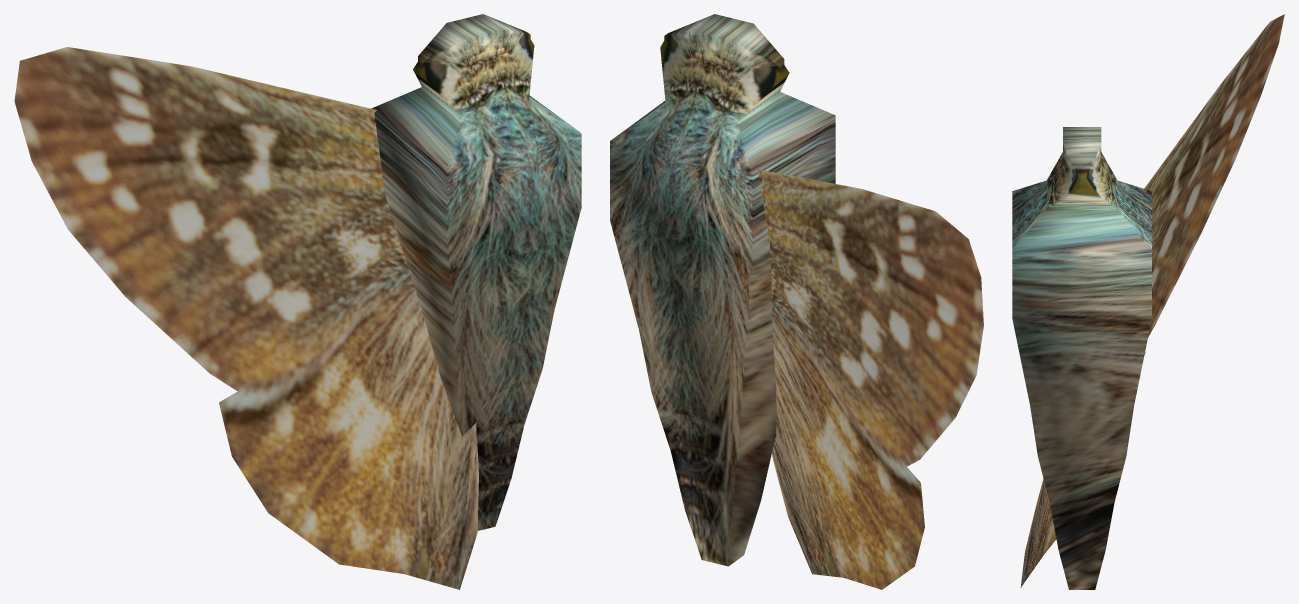
The model's file is mothslow.gltf.
The picture shows the model from 3 angles, left to right: view 1: azimuth 30°, elevation 25°; view 2: azimuth 150°, elevation 25°; view 3: azimuth 270°, elevation 25°; orthographic projection. The views are drawn at different scales.
Visible parts, largest first — view 1: Plane; view 2: Plane; view 3: Plane.
Part boxes in pixels (box(x1,y1,x2,y2)): Plane: box(14, 14, 581, 589); Plane: box(610, 14, 983, 589); Plane: box(1012, 14, 1284, 589).
Size of the model in its own units: 1.55 by 1.86 by 0.9676.
Materials: 1 (1 with a texture image).
